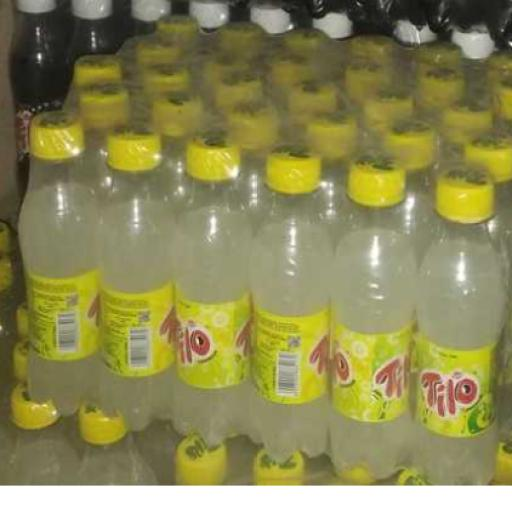Sprite: (413, 167, 507, 484), (329, 154, 418, 479), (249, 147, 333, 461), (173, 132, 252, 444), (19, 111, 99, 414), (98, 126, 175, 430), (384, 117, 437, 261), (464, 130, 511, 287), (306, 113, 356, 245), (226, 103, 280, 224), (78, 82, 131, 195), (153, 96, 202, 216), (440, 99, 492, 164), (464, 131, 511, 190), (384, 119, 437, 171), (287, 81, 339, 133), (417, 66, 464, 121), (79, 84, 129, 134), (306, 113, 359, 159), (363, 88, 413, 135), (152, 93, 202, 137), (73, 55, 122, 89), (142, 65, 190, 97)
